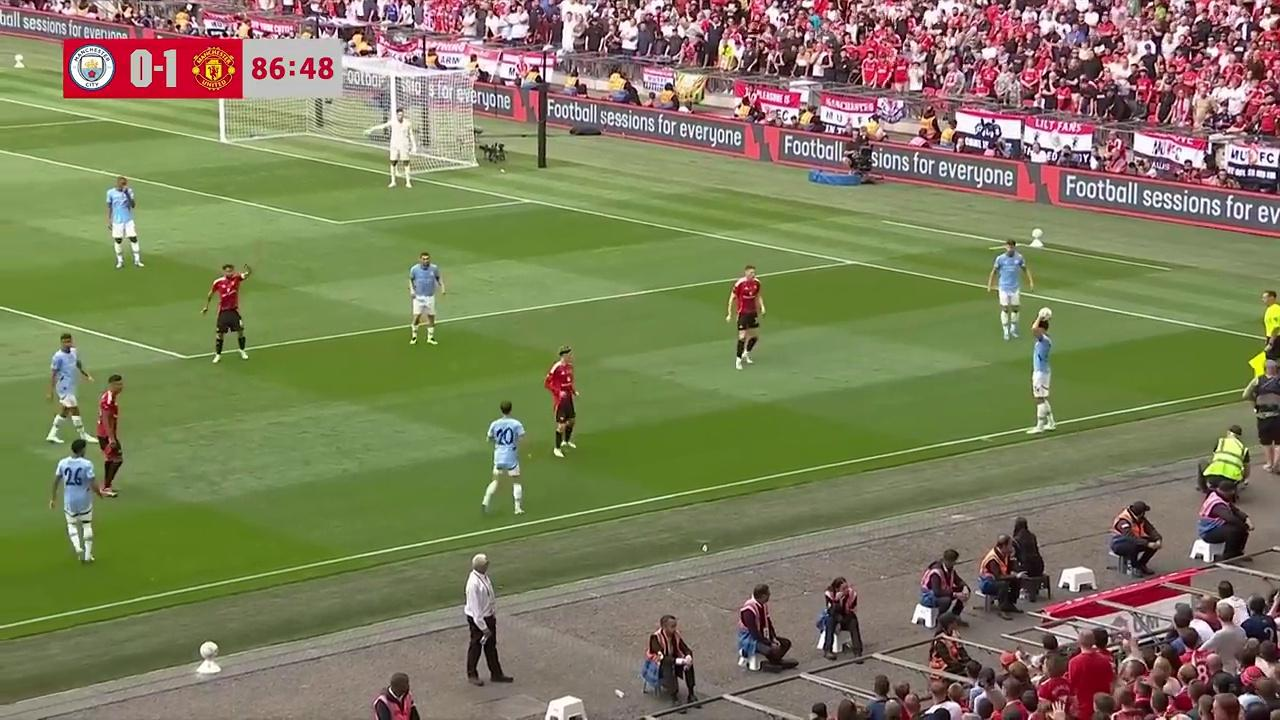ball: (1036, 305, 1053, 322)
player: (48, 438, 98, 564), (42, 332, 93, 443), (481, 401, 526, 516), (201, 261, 250, 364), (989, 239, 1032, 339), (544, 345, 579, 457), (727, 265, 765, 368), (94, 373, 124, 497), (105, 175, 143, 270), (408, 251, 443, 345), (1030, 320, 1055, 434), (388, 109, 414, 188)
referee: (1241, 292, 1280, 404)
